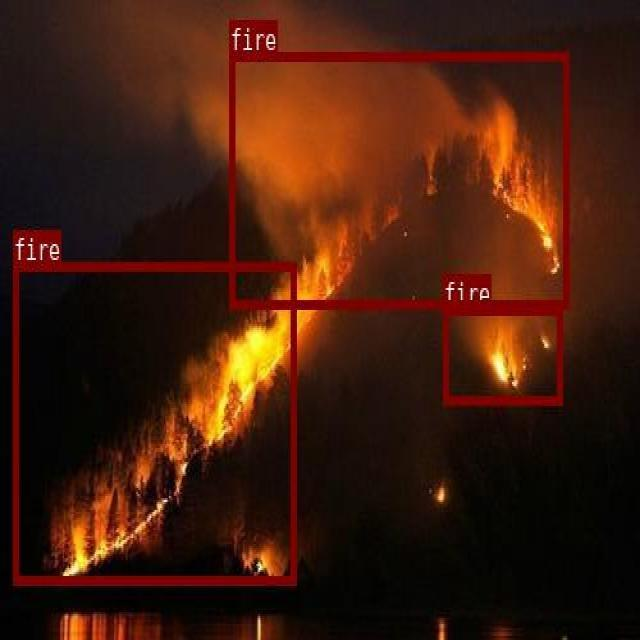fire: (12, 261, 296, 583), (229, 52, 568, 307), (443, 306, 562, 403)
